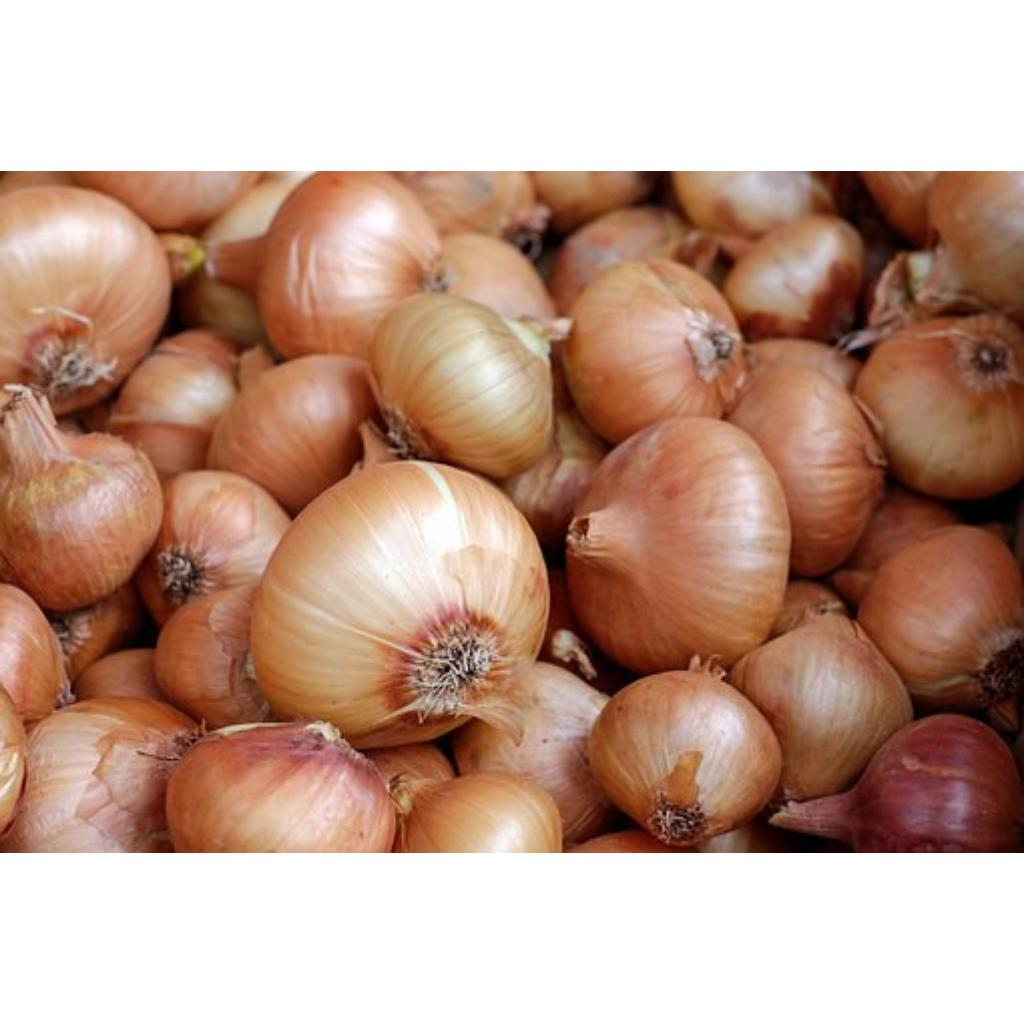Onion: (251, 464, 550, 750), (568, 418, 793, 674), (207, 171, 442, 357), (0, 185, 171, 415), (369, 293, 572, 477), (0, 384, 161, 612), (590, 657, 783, 847), (773, 715, 1024, 854), (733, 615, 916, 802), (731, 364, 889, 578), (564, 259, 745, 443), (857, 316, 1024, 500), (859, 526, 1024, 712), (452, 663, 618, 845), (0, 701, 197, 854), (167, 725, 396, 854), (207, 346, 377, 515), (135, 470, 291, 626), (153, 585, 269, 730), (392, 775, 562, 854)
